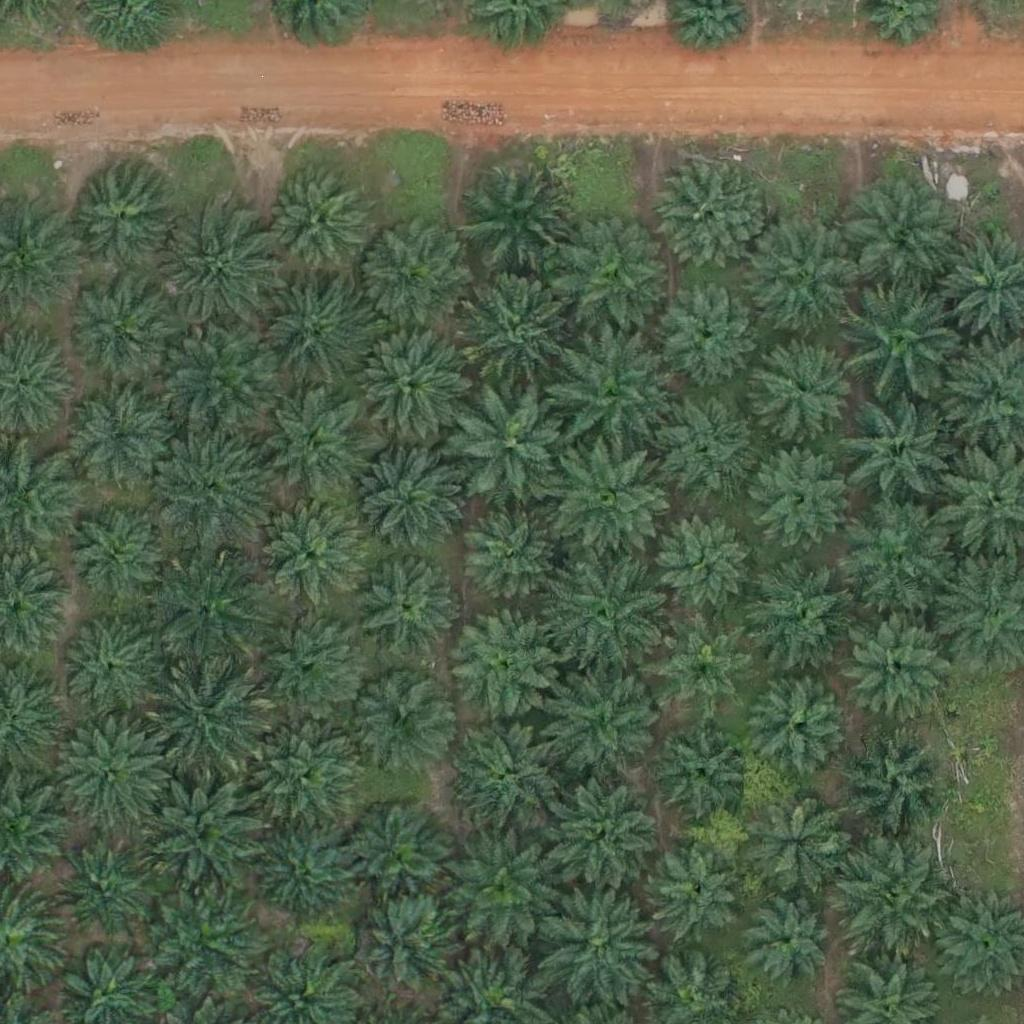Kelapa_Sawit: (840, 499, 953, 613), (557, 440, 670, 554), (454, 384, 567, 498), (262, 389, 375, 503), (149, 782, 262, 896), (847, 281, 960, 394), (745, 555, 858, 668), (837, 851, 950, 964), (654, 162, 767, 275), (552, 223, 665, 336), (537, 899, 650, 1012), (444, 831, 557, 944), (451, 715, 564, 828), (443, 604, 556, 717), (355, 219, 468, 332), (356, 323, 469, 436), (349, 555, 462, 668), (344, 663, 457, 776), (341, 797, 454, 910), (242, 721, 355, 834), (253, 278, 366, 391), (167, 324, 280, 437), (147, 428, 260, 541), (65, 271, 178, 384), (751, 219, 863, 333), (552, 669, 664, 783), (260, 497, 372, 611), (63, 161, 175, 275), (847, 619, 959, 732), (841, 394, 953, 507), (845, 182, 957, 295), (835, 722, 947, 835), (645, 390, 757, 503), (555, 338, 667, 451), (551, 558, 663, 671), (548, 775, 660, 888), (464, 159, 576, 272), (457, 270, 569, 383), (350, 448, 462, 561), (253, 609, 365, 722), (161, 212, 273, 325), (154, 552, 266, 665), (155, 665, 267, 778), (147, 892, 259, 1005), (56, 718, 168, 831), (753, 335, 853, 436), (753, 681, 853, 782), (749, 792, 849, 893), (656, 716, 756, 817), (650, 508, 750, 609), (655, 276, 755, 377), (357, 894, 457, 995), (256, 830, 356, 931), (263, 172, 363, 273), (58, 843, 158, 944), (58, 610, 158, 711), (71, 394, 171, 495), (752, 446, 852, 546), (649, 840, 749, 940), (655, 615, 755, 715), (459, 504, 559, 604), (65, 509, 165, 609), (743, 898, 830, 986)
